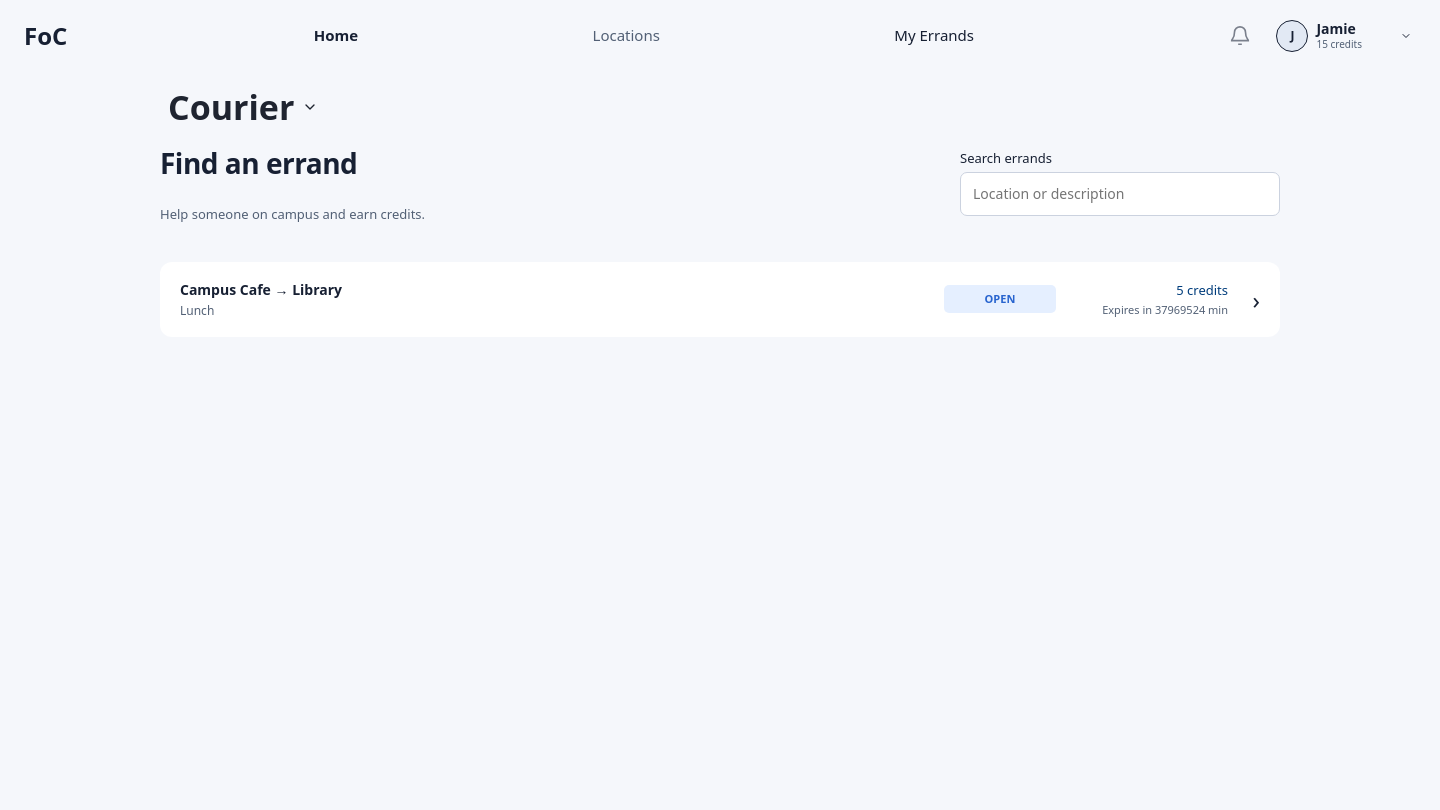
Scenario: uses fresh details to prevent acceptance: {"status":"ACCEPTED"}
This screenshot has width=1440, height=810.
What coordinates should you click on to do the following:
click the link that starts with "Campus Cafe"
I would click on:
 (225, 289)
Its box is [160,262,1280,337].
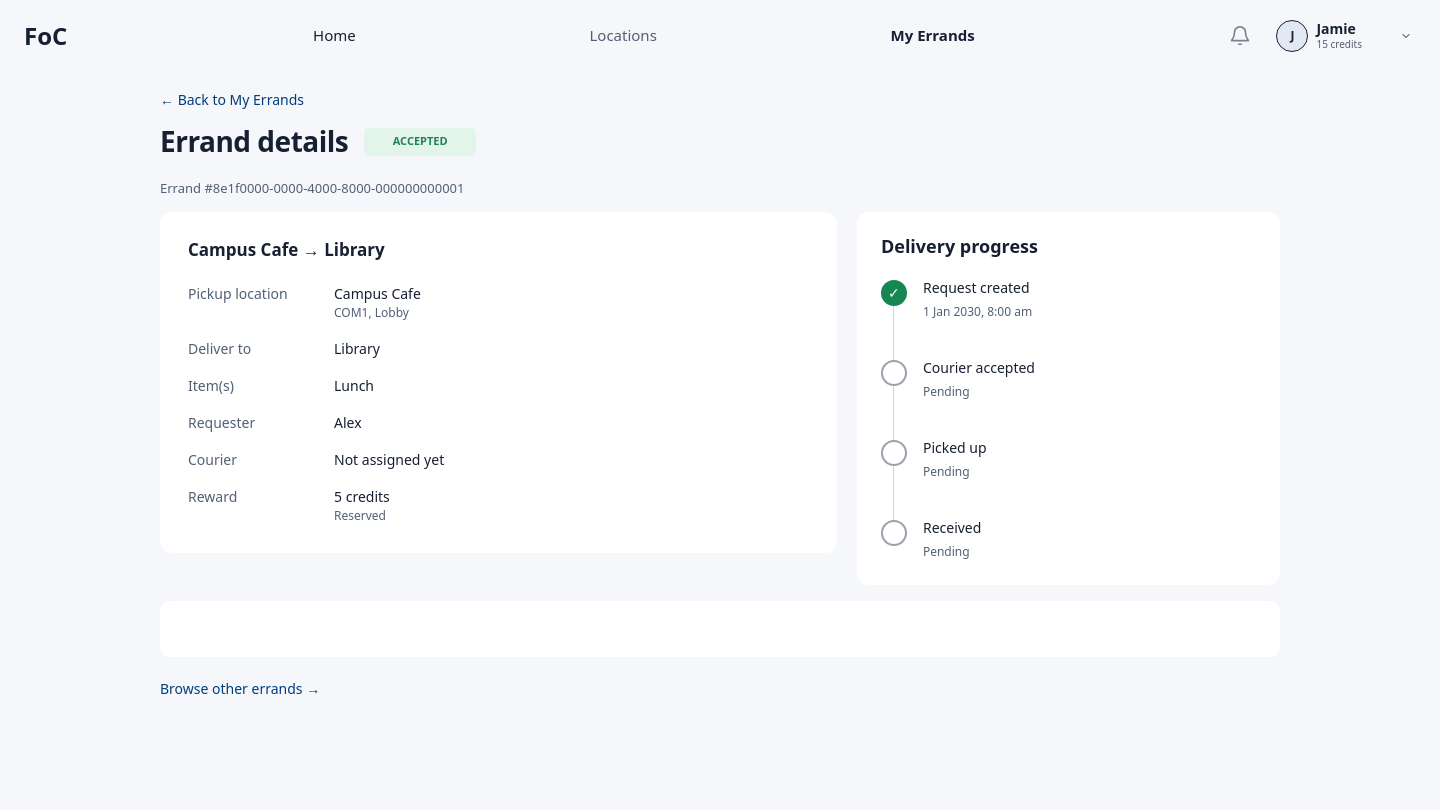
expect the text "COM1, Lobby" is shown: met, box [334,304,409,321]
